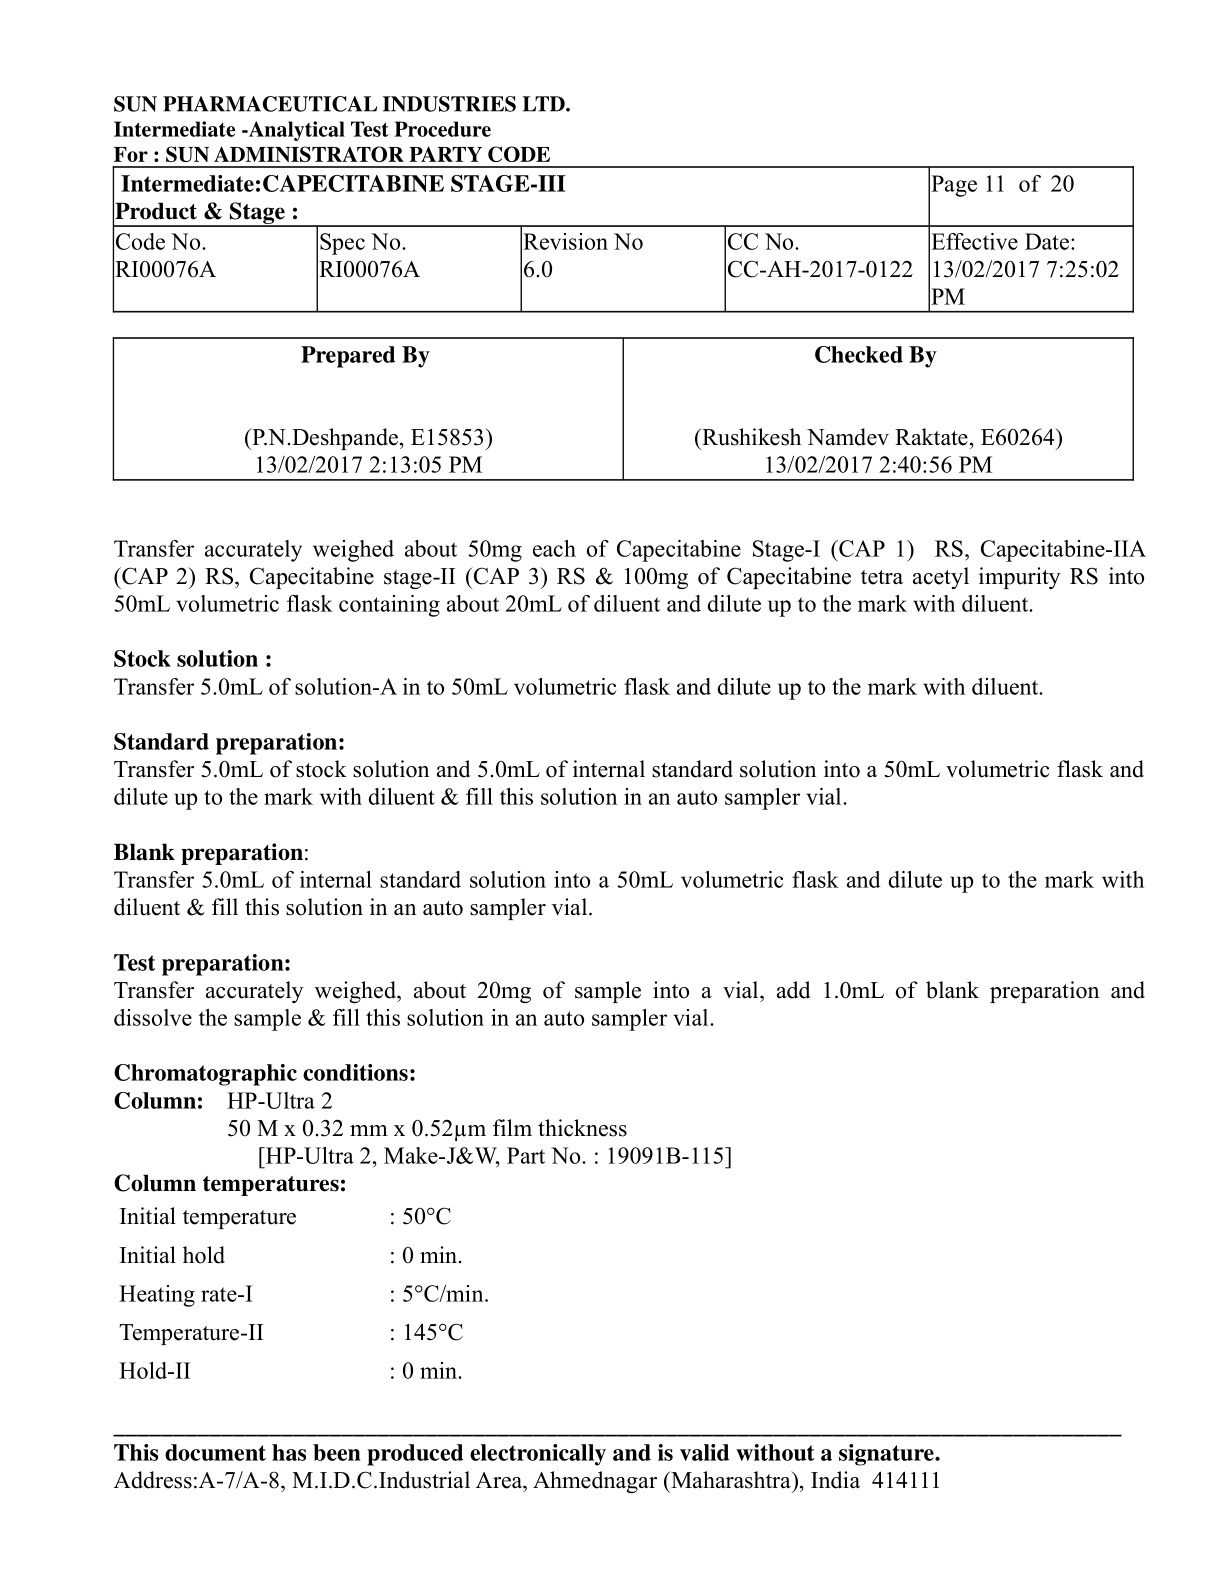full_lined: (111, 336, 1137, 483)
merged_cells: (112, 165, 1134, 314)
nolines: (117, 1205, 491, 1382)
